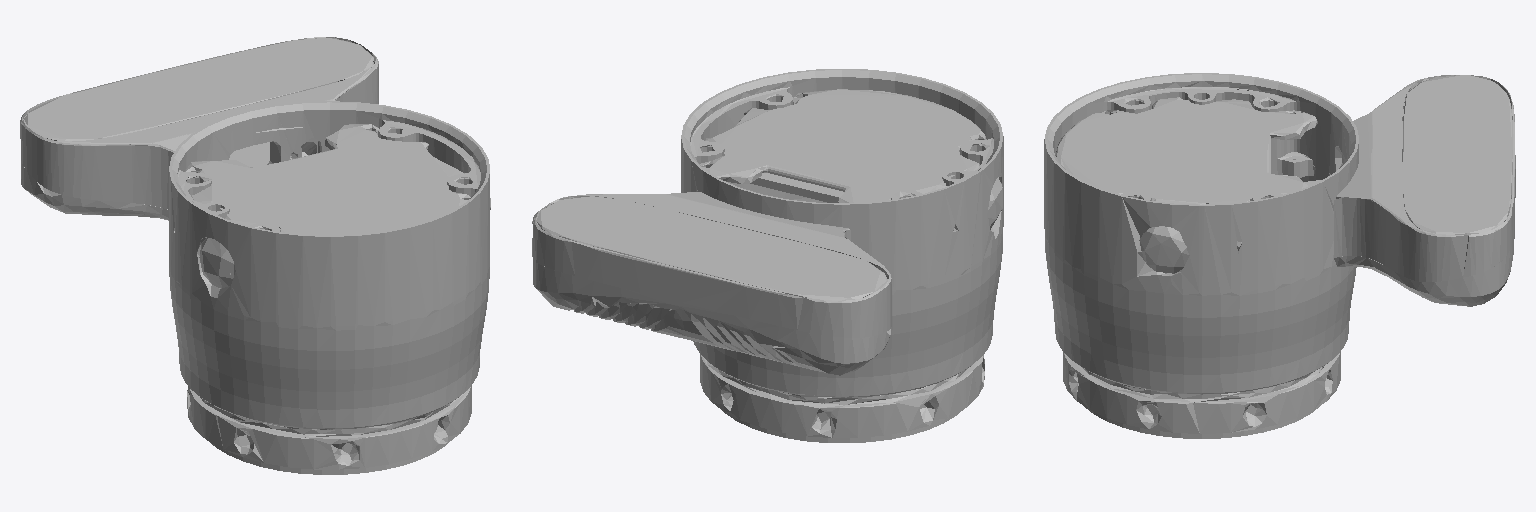
URDF robot description (Kinova_description):
<?xml version="1.0" encoding="utf-8"?>
<!-- This URDF was automatically created by SolidWorks to URDF Exporter! Originally created by [author] ([email redacted]) 
     Commit Version: 1.6.0-4-g7f85cfe  Build Version: 1.6.7995.38578
     For more information, please see http://wiki.ros.org/sw_urdf_exporter -->
<robot
  name="Kinova_description">
  <mujoco>
    <compiler meshdir="../meshes/" balanceinertia="true" discardvisual="false"/>
  </mujoco>
  <link
    name="base_link">
    <inertial>
      <origin
        xyz="0.00077376 5.0345E-05 0.07815"
        rpy="0 0 0" />
      <mass
        value="1.0621" />
      <inertia
        ixx="0.0027558"
        ixy="-1.145E-07"
        ixz="2.8102E-05"
        iyy="0.00278"
        iyz="1.8269E-06"
        izz="0.0011531" />
    </inertial>
    <visual>
      <origin
        xyz="0 0 0"
        rpy="0 0 0" />
      <geometry>
        <mesh
          filename="package://Kinova_description/meshes/base_link.STL" />
      </geometry>
      <material
        name="">
        <color
          rgba="0.79216 0.81961 0.93333 1" />
      </material>
    </visual>
    <collision>
      <origin
        xyz="0 0 0"
        rpy="0 0 0" />
      <geometry>
        <mesh
          filename="package://Kinova_description/meshes/base_link.STL" />
      </geometry>
    </collision>
  </link>
  <link
    name="link1">
    <inertial>
      <origin
        xyz="6.1995E-05 -0.088531 0.0047529"
        rpy="0 0 0" />
      <mass
        value="0.31045" />
      <inertia
        ixx="0.00015281"
        ixy="-1.983E-09"
        ixz="-3.2458E-14"
        iyy="0.00020135"
        iyz="3.7009E-14"
        izz="0.0002106" />
    </inertial>
    <visual>
      <origin
        xyz="0 0 0"
        rpy="0 0 0" />
      <geometry>
        <mesh
          filename="package://Kinova_description/meshes/link1.STL" />
      </geometry>
      <material
        name="">
        <color
          rgba="0.75294 0.75294 0.75294 1" />
      </material>
    </visual>
    <collision>
      <origin
        xyz="0 0 0"
        rpy="0 0 0" />
      <geometry>
        <mesh
          filename="package://Kinova_description/meshes/link1.STL" />
      </geometry>
    </collision>
  </link>
  <joint
    name="joint1"
    type="revolute">
    <origin
      xyz="0 0 0.14045"
      rpy="-1.5708 0 0" />
    <parent
      link="base_link" />
    <child
      link="link1" />
    <axis
      xyz="0 -1 0" />
    <limit
      lower="-3.14"
      upper="3.14"
      effort="30"
      velocity="5" />
    <dynamics
      damping="0.1"
      friction="0.1" />
  </joint>
  <link
    name="link2">
    <inertial>
      <origin
        xyz="6.3307E-05 -0.017418 0.098831"
        rpy="0 0 0" />
      <mass
        value="0.43942" />
      <inertia
        ixx="0.00061383"
        ixy="1.0517E-08"
        ixz="2.2326E-08"
        iyy="0.00069605"
        iyz="-6.3782E-05"
        izz="0.00038569" />
    </inertial>
    <visual>
      <origin
        xyz="0 0 0"
        rpy="0 0 0" />
      <geometry>
        <mesh
          filename="package://Kinova_description/meshes/link2.STL" />
      </geometry>
      <material
        name="">
        <color
          rgba="0.75294 0.75294 0.75294 1" />
      </material>
    </visual>
    <collision>
      <origin
        xyz="0 0 0"
        rpy="0 0 0" />
      <geometry>
        <mesh
          filename="package://Kinova_description/meshes/link2.STL" />
      </geometry>
    </collision>
  </link>
  <joint
    name="joint2"
    type="revolute">
    <origin
      xyz="0 -0.1434 0"
      rpy="1.5708 0 0" />
    <parent
      link="link1" />
    <child
      link="link2" />
    <axis
      xyz="0 -1 0" />
    <limit
      lower="-3.14"
      upper="3.14"
      effort="40"
      velocity="3" />
    <dynamics
      damping="0.1"
      friction="0.1" />
  </joint>
  <link
    name="link3">
    <inertial>
      <origin
        xyz="-6.1791E-06 -0.12985 0.0066902"
        rpy="0 0 0" />
      <mass
        value="0.43861" />
      <inertia
        ixx="0.0012106"
        ixy="2.2988E-08"
        ixz="-7.9414E-09"
        iyy="0.00038569"
        iyz="7.8742E-05"
        izz="0.0012914" />
    </inertial>
    <visual>
      <origin
        xyz="0 0 0"
        rpy="0 0 0" />
      <geometry>
        <mesh
          filename="package://Kinova_description/meshes/link3.STL" />
      </geometry>
      <material
        name="">
        <color
          rgba="0.75294 0.75294 0.75294 1" />
      </material>
    </visual>
    <collision>
      <origin
        xyz="0 0 0"
        rpy="0 0 0" />
      <geometry>
        <mesh
          filename="package://Kinova_description/meshes/link3.STL" />
      </geometry>
    </collision>
  </link>
  <joint
    name="joint3"
    type="revolute">
    <origin
      xyz="6.1995E-05 -0.010643 0.1956"
      rpy="-1.5708 0 0" />
    <parent
      link="link2" />
    <child
      link="link3" />
    <axis
      xyz="0 -1 0" />
    <limit
      lower="-3.14"
      upper="3.14"
      effort="30"
      velocity="5" />
    <dynamics
      damping="0.1"
      friction="0.1" />
  </joint>
  <link
    name="link4">
    <inertial>
      <origin
        xyz="3.0089E-07 0.00016564 0.07622"
        rpy="0 0 0" />
      <mass
        value="0.35459" />
      <inertia
        ixx="0.00049578"
        ixy="4.2406E-09"
        ixz="-4.0692E-08"
        iyy="0.00057354"
        iyz="-5.777E-05"
        izz="0.00022825" />
    </inertial>
    <visual>
      <origin
        xyz="0 0 0"
        rpy="0 0 0" />
      <geometry>
        <mesh
          filename="package://Kinova_description/meshes/link4.STL" />
      </geometry>
      <material
        name="">
        <color
          rgba="0.75294 0.75294 0.75294 1" />
      </material>
    </visual>
    <collision>
      <origin
        xyz="0 0 0"
        rpy="0 0 0" />
      <geometry>
        <mesh
          filename="package://Kinova_description/meshes/link4.STL" />
      </geometry>
    </collision>
  </link>
  <joint
    name="joint4"
    type="revolute">
    <origin
      xyz="0 -0.2242 -0.0202"
      rpy="1.5708 0 0" />
    <parent
      link="link3" />
    <child
      link="link4" />
    <axis
      xyz="0 -1 0" />
    <limit
      lower="-3.14"
      upper="3.14"
      effort="30"
      velocity="5" />
    <dynamics
      damping="0.1"
      friction="0.1" />
  </joint>
  <link
    name="link5">
    <inertial>
      <origin
        xyz="-1.4448E-07 -0.050174 0.0092547"
        rpy="0 0 0" />
      <mass
        value="0.25081" />
      <inertia
        ixx="0.0001993"
        ixy="6.7087E-10"
        ixz="2.2658E-09"
        iyy="0.00013442"
        iyz="2.2082E-05"
        izz="0.00021605" />
    </inertial>
    <visual>
      <origin
        xyz="0 0 0"
        rpy="0 0 0" />
      <geometry>
        <mesh
          filename="package://Kinova_description/meshes/link5.STL" />
      </geometry>
      <material
        name="">
        <color
          rgba="0.75294 0.75294 0.75294 1" />
      </material>
    </visual>
    <collision>
      <origin
        xyz="0 0 0"
        rpy="0 0 0" />
      <geometry>
        <mesh
          filename="package://Kinova_description/meshes/link5.STL" />
      </geometry>
    </collision>
  </link>
  <joint
    name="joint5"
    type="revolute">
    <origin
      xyz="0 0.0084 0.2203"
      rpy="-1.5708 0 0" />
    <parent
      link="link4" />
    <child
      link="link5" />
    <axis
      xyz="0 -1 0" />
    <limit
      lower="-3.14"
      upper="3.14"
      effort="9"
      velocity="10" />
    <dynamics
      damping="0.1"
      friction="0.1" />
  </joint>
  <link
    name="link6">
    <inertial>
      <origin
        xyz="-9.215E-08 0.0034219 0.04541"
        rpy="0 0 0" />
      <mass
        value="0.25081" />
      <inertia
        ixx="0.00021273"
        ixy="-1.4755E-09"
        ixz="2.8166E-09"
        iyy="0.00022613"
        iyz="-3.0157E-05"
        izz="0.00013777" />
    </inertial>
    <visual>
      <origin
        xyz="0 0 0"
        rpy="0 0 0" />
      <geometry>
        <mesh
          filename="package://Kinova_description/meshes/link6.STL" />
      </geometry>
      <material
        name="">
        <color
          rgba="0.75294 0.75294 0.75294 1" />
      </material>
    </visual>
    <collision>
      <origin
        xyz="0 0 0"
        rpy="0 0 0" />
      <geometry>
        <mesh
          filename="package://Kinova_description/meshes/link6.STL" />
      </geometry>
    </collision>
  </link>
  <joint
    name="joint6"
    type="revolute">
    <origin
      xyz="0 -0.0931 -0.01205"
      rpy="1.5708 0 0" />
    <parent
      link="link5" />
    <child
      link="link6" />
    <axis
      xyz="0 -1 0" />
    <limit
      lower="-3.14"
      upper="3.14"
      effort="9"
      velocity="10" />
    <dynamics
      damping="0.1"
      friction="0.1" />
  </joint>
  <link
    name="link7">
    <inertial>
      <origin
        xyz="-0.00014228 -0.015172 0.0087949"
        rpy="0 0 0" />
      <mass
        value="0.16123" />
      <inertia
        ixx="6.5029E-05"
        ixy="-3.2314E-07"
        ixz="1.0233E-07"
        iyy="0.00010702"
        iyz="-1.7595E-07"
        izz="8.0849E-05" />
    </inertial>
    <visual>
      <origin
        xyz="0 0 0"
        rpy="0 0 0" />
      <geometry>
        <mesh
          filename="package://Kinova_description/meshes/link7.STL" />
      </geometry>
      <material
        name="">
        <color
          rgba="0.75294 0.75294 0.75294 1" />
      </material>
    </visual>
    <collision>
      <origin
        xyz="0 0 0"
        rpy="0 0 0" />
      <geometry>
        <mesh
          filename="package://Kinova_description/meshes/link7.STL" />
      </geometry>
    </collision>
  </link>
  <joint
    name="joiny7"
    type="revolute">
    <origin
      xyz="0 0.01265 0.1178"
      rpy="-1.5708 0 0" />
    <parent
      link="link6" />
    <child
      link="link7" />
    <axis
      xyz="0 -1 0" />
    <limit
      lower="-3.14"
      upper="3.14"
      effort="9"
      velocity="10" />
    <dynamics
      damping="0.1"
      friction="0.1" />
  </joint>
  <link
    name="link_tool">
    <inertial>
      <origin
        xyz="-6.3933E-05 0.14705 1.8021E-05"
        rpy="0 0 0" />
      <mass
        value="0.37712" />
      <inertia
        ixx="0.00024605"
        ixy="-9.7451E-08"
        ixz="1.0852E-08"
        iyy="0.00016881"
        iyz="-1.1287E-07"
        izz="0.00028469" />
    </inertial>
    <visual>
      <origin
        xyz="0 0 0"
        rpy="0 0 0" />
      <geometry>
        <mesh
          filename="package://Kinova_description/meshes/link_tool.STL" />
      </geometry>
      <material
        name="">
        <color
          rgba="0.75294 0.75294 0.75294 1" />
      </material>
    </visual>
    <collision>
      <origin
        xyz="0 0 0"
        rpy="0 0 0" />
      <geometry>
        <mesh
          filename="package://Kinova_description/meshes/link_tool.STL" />
      </geometry>
    </collision>
  </link>
  <joint
    name="joint_tool"
    type="fixed">
    <origin
      xyz="0 -0.26156 0"
      rpy="0 0 0" />
    <parent
      link="link7" />
    <child
      link="link_tool" />
    <axis
      xyz="0 0 0" />
  </joint>
</robot>

--- Facts derived from the render (not from the file) ---
The picture shows the robot from 3 angles, left to right: view 1: azimuth 30°, elevation 25°; view 2: azimuth 150°, elevation 25°; view 3: azimuth 270°, elevation 25°; orthographic projection.
Model Kinova_description with 9 links and 8 joints (7 revolute, 1 fixed), rooted at base_link, posed all joints at 0.
Visible links, largest first — view 1: link7; view 2: link7; view 3: link7.
Boxes of the visible links, box(x1,y1,x2,y2) form: link7: box(20, 37, 490, 474); link7: box(532, 69, 1003, 442); link7: box(1044, 73, 1515, 438).
Size in the robot's own frame: 0.091 by 0.1122 by 0.0644 metres.
Meshes: 9 distinct files referenced, 1 mesh visuals loaded (1 binary STL); not drawn: 8 (reference not matched to a file when rendering).